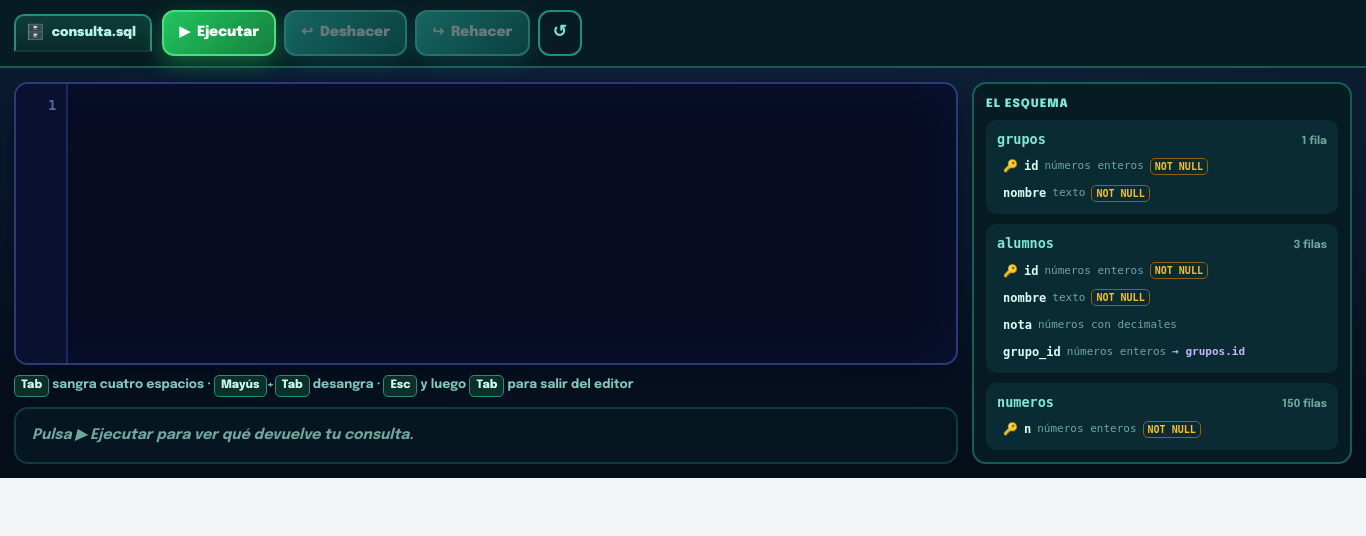
Test case: VentanaDatos › ejecutar con el editor vacío avisa y no revienta, sin dejar ninguna tarjeta
This screenshot has width=1366, height=536.
Click the button with test id "dat-ejecutar" at (219, 33), box x1=162 y1=10 x2=276 y2=56
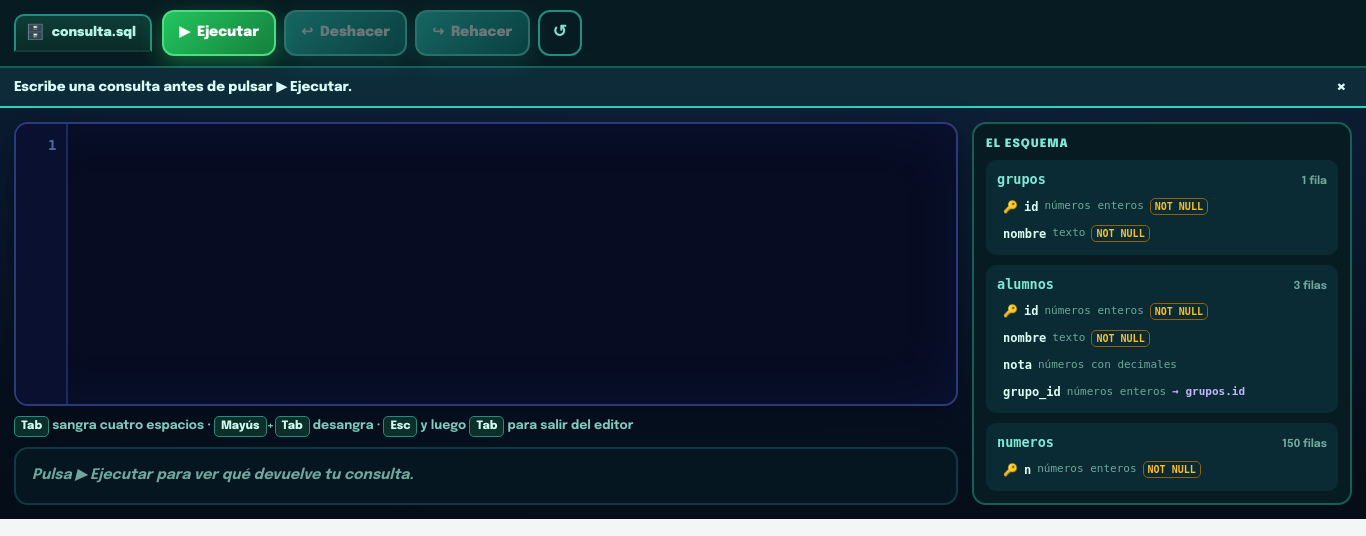
Expected: the message with test id "dat-aviso" shows "Escribe una consulta", x1=14 y1=80 x2=352 y2=94
